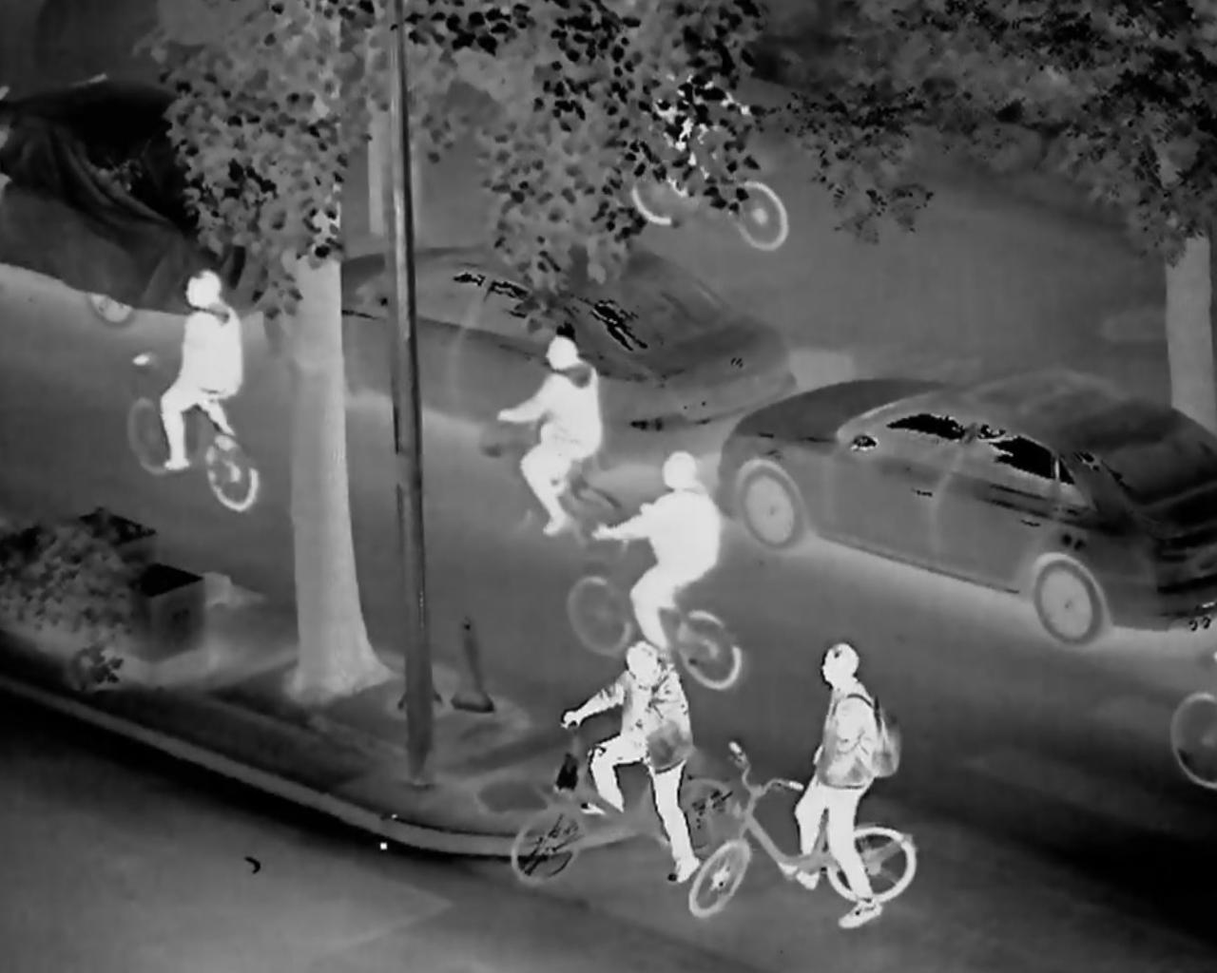person: (547, 639, 693, 873), (794, 622, 898, 942), (129, 261, 261, 483), (591, 433, 721, 651), (499, 326, 620, 554), (638, 47, 752, 207)
